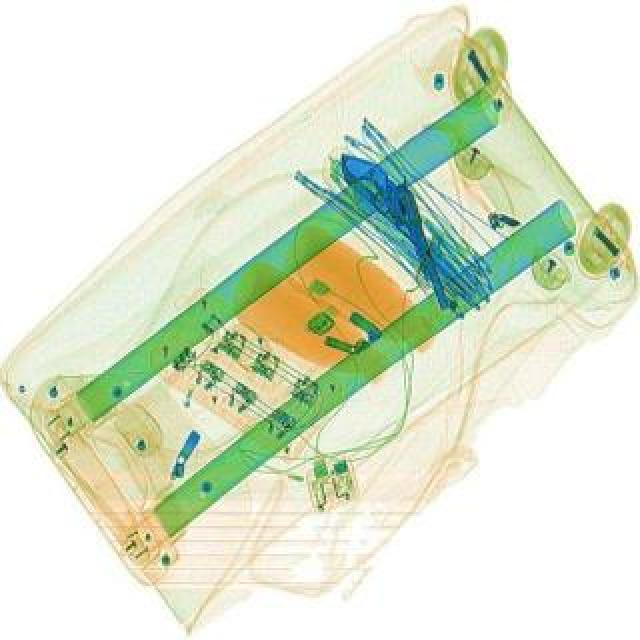gun: (334, 136, 450, 324)
